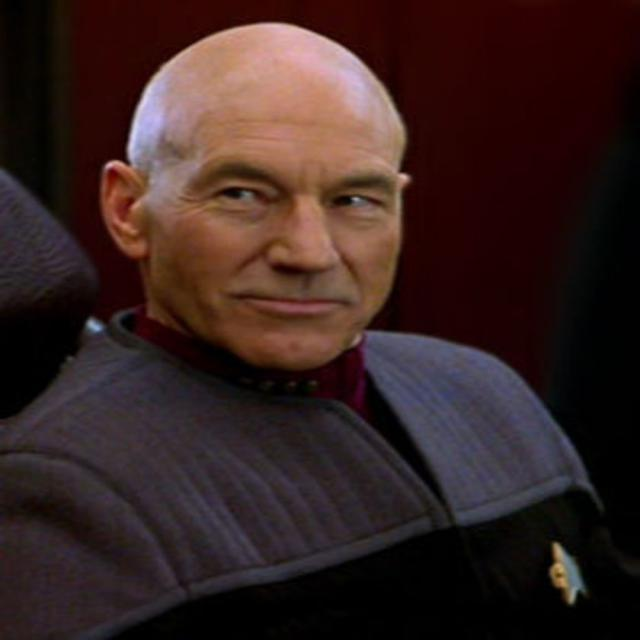closed-mouth: (223, 289, 357, 319)
